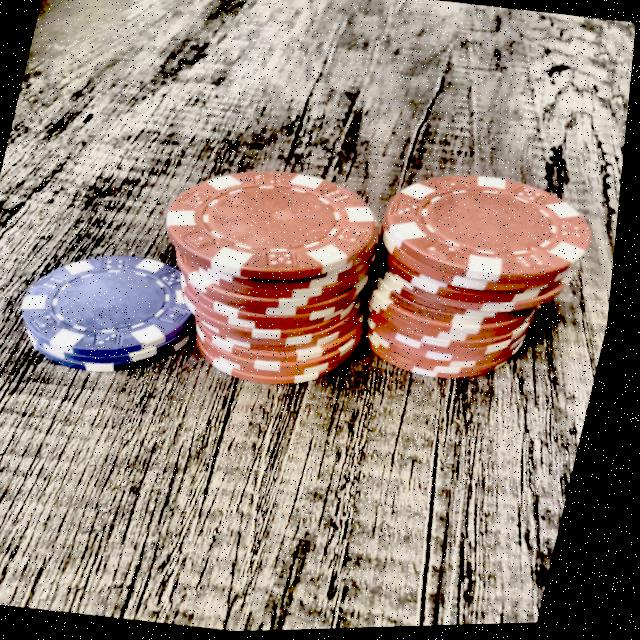Chip: (112, 122, 410, 418), (334, 137, 617, 411), (0, 218, 222, 391)
